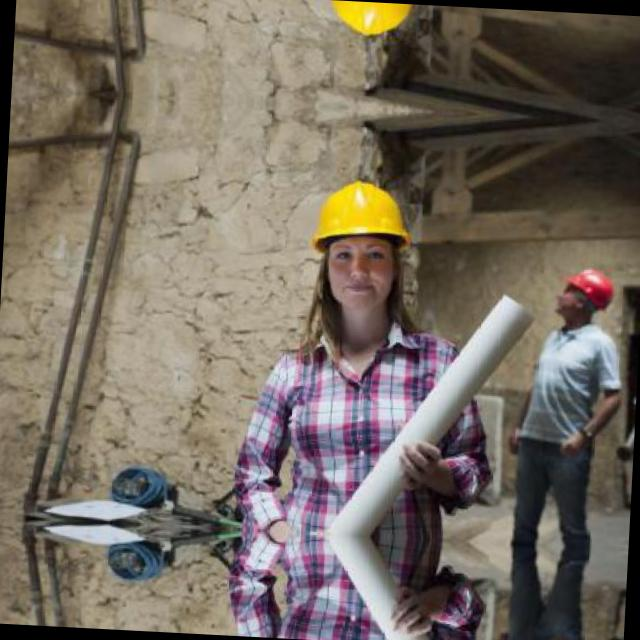helmet: (299, 165, 422, 334), (314, 0, 432, 53), (555, 262, 618, 322)
